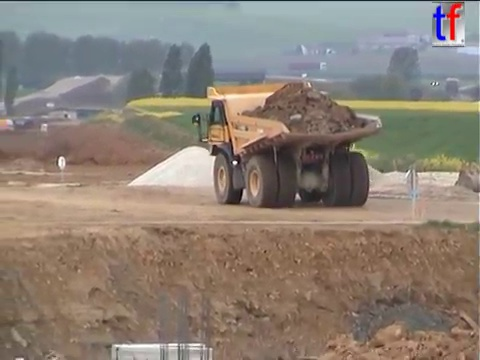truck: (188, 79, 384, 210)
